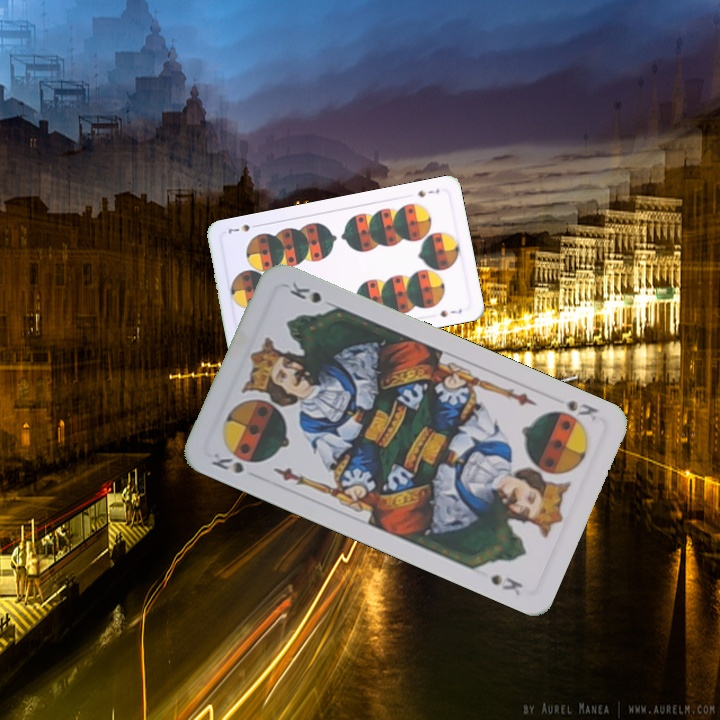S7: (413, 185, 442, 200)
SK: (561, 396, 604, 423), (207, 448, 247, 476)
